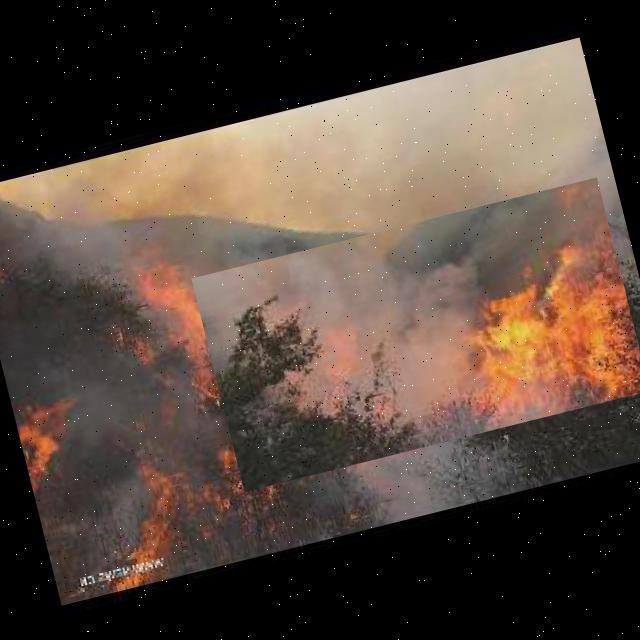fire: (191, 176, 640, 491)
